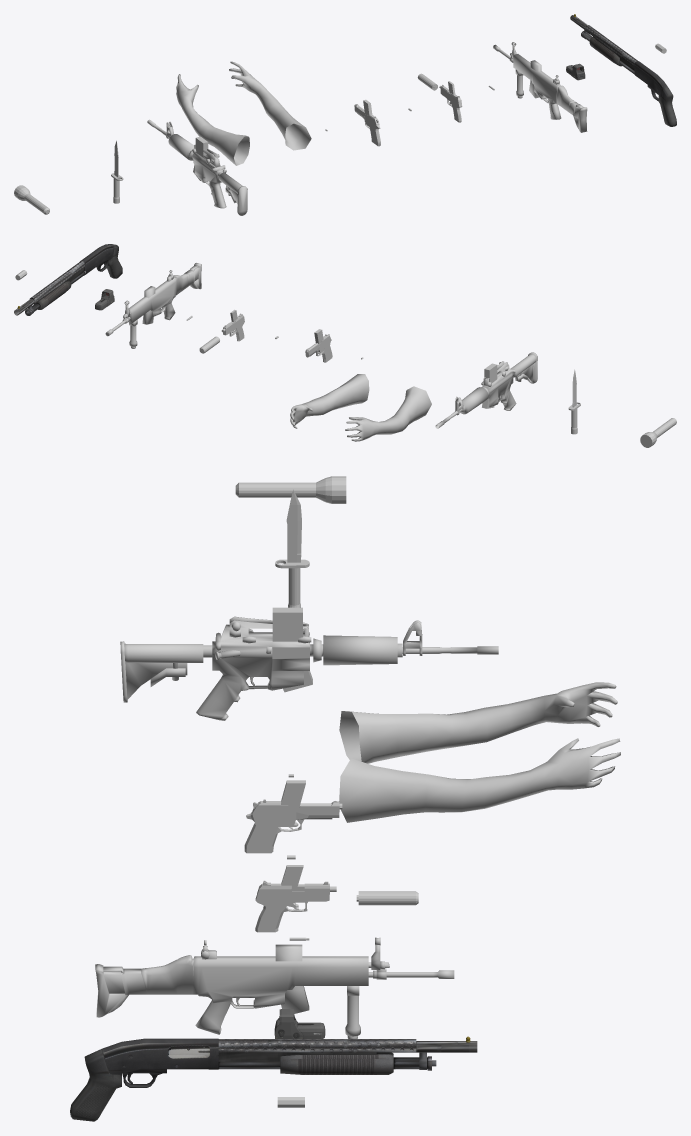
File: FPSWeapons.obj
3 renders of one model, top to bottom at view 1: azimuth 30°, elevation 25°; view 2: azimuth 150°, elevation 25°; view 3: azimuth 270°, elevation 25°, orthographic. The views are drawn at different scales.
Visible parts, largest first — view 1: Arms_Base_Mesh.001, M4_Carbine_Plane.001, Mossberg_500_Cylinder.004, Scar_Plane.006, M9_Pistol_Plane, MagLite_Cylinder.001, USP-CT_Plane.004, M9_Bayonet_Cylinder.002; view 2: Arms_Base_Mesh.001, M4_Carbine_Plane.001, Scar_Plane.006, Mossberg_500_Cylinder.004, MagLite_Cylinder.001, M9_Pistol_Plane, M9_Bayonet_Cylinder.002, USP-CT_Plane.004; view 3: Arms_Base_Mesh.001, Mossberg_500_Cylinder.004, M4_Carbine_Plane.001, Scar_Plane.006, M9_Pistol_Plane, USP-CT_Plane.004, MagLite_Cylinder.001, M9_Bayonet_Cylinder.002, M4_Magazine_Plane.003, EOTech_Cube, Scar_magazine_Plane.007.
Part boxes in pixels (x1=…): Arms_Base_Mesh.001: x1=176, y1=61, x2=311, y2=165; M4_Carbine_Plane.001: x1=147, y1=119, x2=247, y2=215; Mossberg_500_Cylinder.004: x1=570, y1=14, x2=676, y2=126; Scar_Plane.006: x1=493, y1=42, x2=587, y2=132; M9_Pistol_Plane: x1=354, y1=104, x2=380, y2=146; MagLite_Cylinder.001: x1=14, y1=185, x2=49, y2=214; USP-CT_Plane.004: x1=439, y1=84, x2=462, y2=122; M9_Bayonet_Cylinder.002: x1=111, y1=140, x2=123, y2=203; Arms_Base_Mesh.001: x1=290, y1=374, x2=431, y2=441; M4_Carbine_Plane.001: x1=435, y1=352, x2=537, y2=428; Scar_Plane.006: x1=105, y1=263, x2=201, y2=348; Mossberg_500_Cylinder.004: x1=14, y1=244, x2=122, y2=315; MagLite_Cylinder.001: x1=640, y1=418, x2=676, y2=447; M9_Pistol_Plane: x1=305, y1=334, x2=332, y2=362; M9_Bayonet_Cylinder.002: x1=568, y1=369, x2=580, y2=434; USP-CT_Plane.004: x1=221, y1=313, x2=244, y2=341; Arms_Base_Mesh.001: x1=339, y1=682, x2=620, y2=822; Mossberg_500_Cylinder.004: x1=70, y1=1036, x2=477, y2=1121; M4_Carbine_Plane.001: x1=120, y1=616, x2=498, y2=720; Scar_Plane.006: x1=95, y1=937, x2=454, y2=1038; M9_Pistol_Plane: x1=244, y1=799, x2=342, y2=853; USP-CT_Plane.004: x1=255, y1=880, x2=336, y2=932; MagLite_Cylinder.001: x1=235, y1=476, x2=346, y2=503; M9_Bayonet_Cylinder.002: x1=275, y1=489, x2=309, y2=607; M4_Magazine_Plane.003: x1=272, y1=607, x2=312, y2=692; EOTech_Cube: x1=274, y1=1009, x2=325, y2=1038; Scar_magazine_Plane.007: x1=275, y1=944, x2=309, y2=1013.
Size of the model in its own units: 7.6 by 0.8411 by 2.85.
